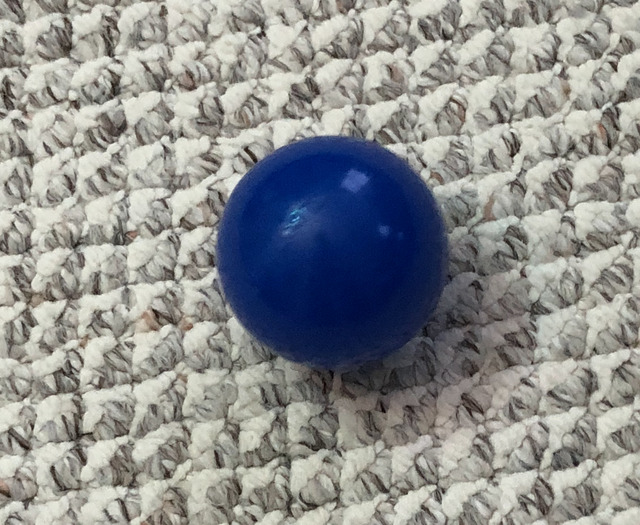Ball: (217, 136, 443, 363)
